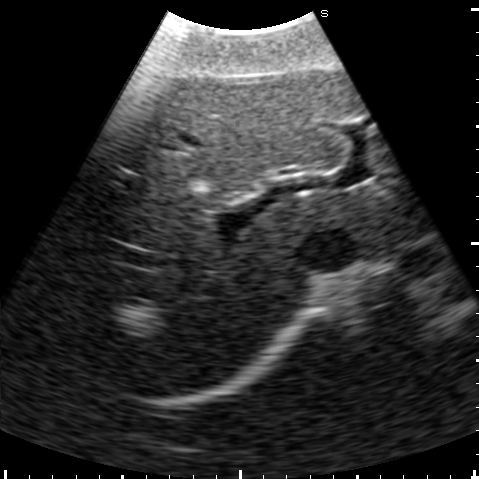IVC: (301, 231, 354, 272)
S1: (336, 193, 415, 251)
S2: (376, 175, 429, 215)
S3: (345, 83, 404, 178)
S4: (108, 68, 348, 198)
Tumor: (113, 303, 159, 334), (189, 180, 209, 193)
